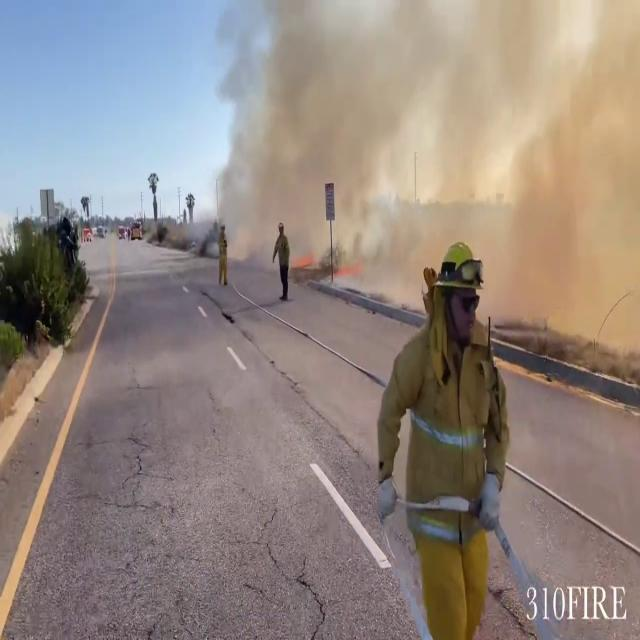Smoke: (210, 0, 640, 281)
